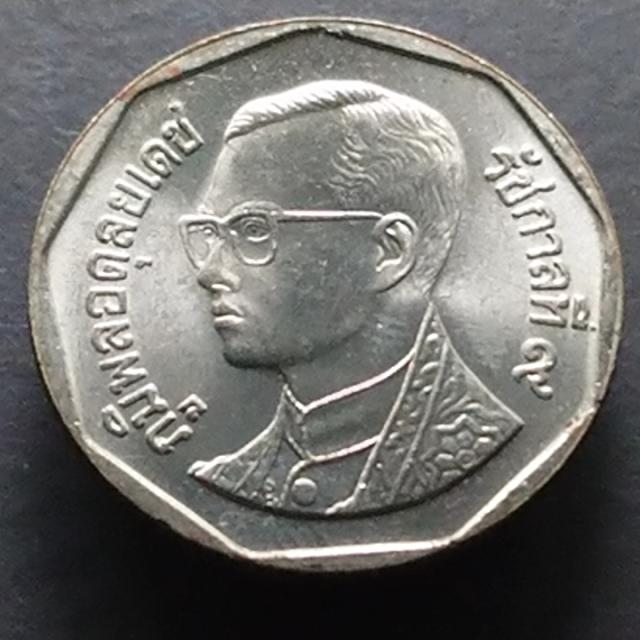5 Bath: (26, 14, 631, 584)
